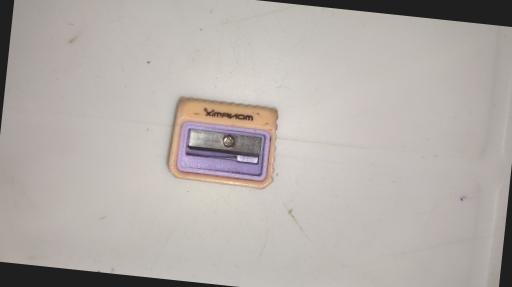Sharpener: (166, 95, 279, 187)
